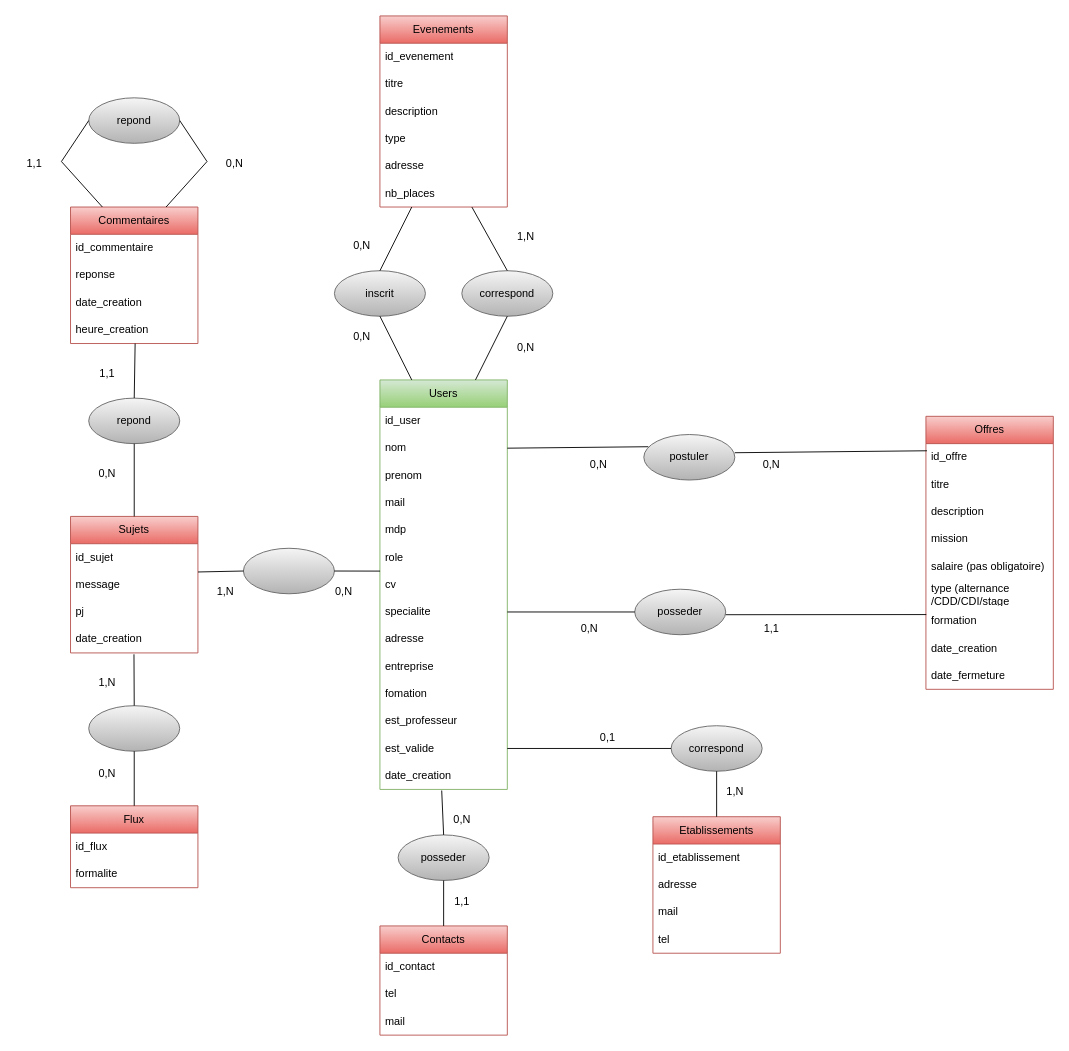
The diagram is 1069 pixels wide and 1051 high, and some of its shapes have lost their labels. Here are the shapes that lost their labels. From the top down, the centre of each, then its label:
the point at 288,570: possede
the point at 134,728: concerne
